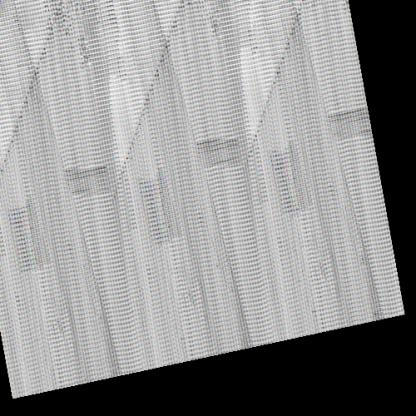Damage: (181, 117, 326, 212)
